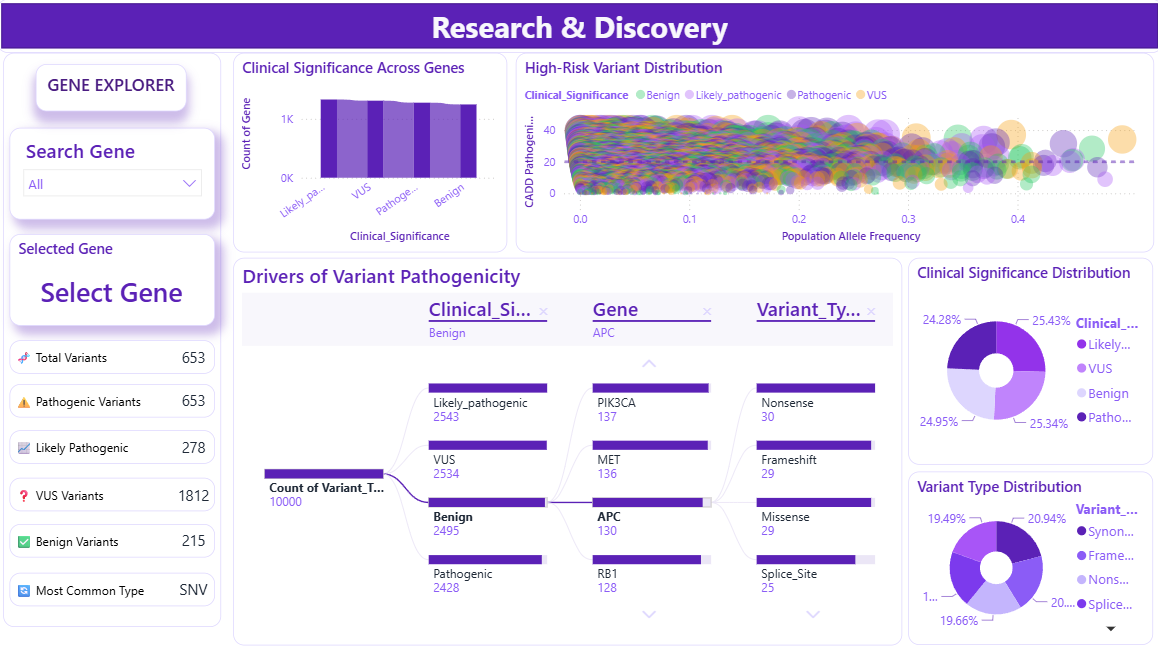

The page's visual inventory and layout, read from the dashboard file:
{"tool":"powerbi","page":{"name":"Research & Discovery Dashboard","canvas":[1280,720],"ordinal":5},"visuals":[{"type":"shape","box":[0,0,1279.7,59.4],"z":0},{"type":"group","id":"g1","title":"Group 1","box":[7.2,59.1,240,630],"z":1000,"group":"g2"},{"type":"shape","box":[7.2,59.1,239.6,630.2],"z":1000,"group":"g1"},{"type":"slicer","title":"Search Gene","fields":{"Values":["cancer_variant_prioritization_dataset.Gene"]},"box":[14.2,141.7,225.6,101],"z":2000,"group":"g1"},{"type":"textbox","box":[194,637.3,44.4,22.9],"z":2000,"group":"g2"},{"type":"group","id":"g2","title":"Group 2","box":[7.2,59.1,240.1,629.8],"z":3000},{"type":"textbox","box":[43.4,71.3,165.7,52],"z":3000,"group":"g1"},{"type":"textbox","box":[194,583.8,44.4,22.9],"z":3000,"group":"g2"},{"type":"scatterChart","title":"High-Risk Variant Distribution","fields":{"Series":["cancer_variant_prioritization_dataset.Clinical_Significance"],"Size":["Sum(cancer_variant_prioritization_dataset.CADD_Score)"],"X":["cancer_variant_prioritization_dataset.Population_AF"],"Y":["cancer_variant_prioritization_dataset.CADD_Score"]},"box":[569.4,59.1,700.9,219.6],"z":4000},{"type":"textbox","box":[194,533.4,44.4,22.9],"z":4000,"group":"g2"},{"type":"ribbonChart","title":"Clinical Significance Across Genes","fields":{"Category":["cancer_variant_prioritization_dataset.Clinical_Significance"],"Y":["CountNonNull(cancer_variant_prioritization_dataset.Gene)"]},"box":[259.4,59.1,300.4,219.6],"z":5000},{"type":"cardVisual","title":"Selected Gene","fields":{"Data":["cancer_variant_prioritization_dataset.Selected Gene"]},"box":[14.2,257.9,225.6,101],"z":5000,"group":"g1"},{"type":"textbox","box":[194,479.9,44.4,22.9],"z":5000,"group":"g2"},{"type":"decompositionTreeVisual","title":"Drivers of Variant Pathogenicity","fields":{"Analyze":["cancer_variant_prioritization_dataset.Count of Variant_Type"],"ExplainBy":["cancer_variant_prioritization_dataset.Clinical_Significance","cancer_variant_prioritization_dataset.Gene","cancer_variant_prioritization_dataset.Variant_Type"]},"box":[259.4,283.5,734.7,425.9],"z":6000},{"type":"textbox","box":[194,429.4,44.4,22.9],"z":6000,"group":"g2"},{"type":"shape","box":[14.2,374.2,225.6,36.7],"z":7000,"group":"g1"},{"type":"textbox","box":[194,382,44.4,22.9],"z":7000,"group":"g2"},{"type":"donutChart","title":"Variant Type Distribution","fields":{"Category":["cancer_variant_prioritization_dataset.Variant_Type"],"Y":["cancer_variant_prioritization_dataset.Count of Variant_Type"]},"box":[1000.1,518.8,269,190.6],"z":7000},{"type":"donutChart","title":"Clinical Significance Distribution","fields":{"Category":["cancer_variant_prioritization_dataset.Clinical_Significance"],"Y":["cancer_variant_prioritization_dataset.Count of Variant_Type"]},"box":[1000.1,283.5,269,226.8],"z":8001},{"type":"shape","box":[14.2,423.1,225.6,36.7],"z":9000,"group":"g1"},{"type":"shape","box":[14.2,473.6,225.6,36.7],"z":11000,"group":"g1"},{"type":"shape","box":[14.2,525.6,225.6,36.7],"z":13000,"group":"g1"},{"type":"shape","box":[14.2,576.1,225.6,36.7],"z":15000,"group":"g1"},{"type":"shape","box":[14.2,629.6,225.6,36.7],"z":16000,"group":"g1"}]}

Visuals, with their boxes in screenshot pixels (x1, y1, x2, y2), scaled from the page's 1280x720 canvas onto the 1158x653 screenshot:
shape: {"x1": 0, "y1": 0, "x2": 1157, "y2": 54}
"Group 1" group: {"x1": 7, "y1": 54, "x2": 224, "y2": 625}
shape: {"x1": 7, "y1": 54, "x2": 223, "y2": 625}
"Search Gene" slicer: {"x1": 13, "y1": 129, "x2": 217, "y2": 220}
textbox: {"x1": 176, "y1": 578, "x2": 216, "y2": 599}
"Group 2" group: {"x1": 7, "y1": 54, "x2": 224, "y2": 625}
textbox: {"x1": 39, "y1": 65, "x2": 189, "y2": 112}
textbox: {"x1": 176, "y1": 529, "x2": 216, "y2": 550}
"High-Risk Variant Distribution" scatterChart: {"x1": 515, "y1": 54, "x2": 1149, "y2": 253}
textbox: {"x1": 176, "y1": 484, "x2": 216, "y2": 505}
"Clinical Significance Across Genes" ribbonChart: {"x1": 235, "y1": 54, "x2": 506, "y2": 253}
"Selected Gene" cardVisual: {"x1": 13, "y1": 234, "x2": 217, "y2": 326}
textbox: {"x1": 176, "y1": 435, "x2": 216, "y2": 456}
"Drivers of Variant Pathogenicity" decompositionTreeVisual: {"x1": 235, "y1": 257, "x2": 899, "y2": 643}
textbox: {"x1": 176, "y1": 389, "x2": 216, "y2": 410}
shape: {"x1": 13, "y1": 339, "x2": 217, "y2": 373}
textbox: {"x1": 176, "y1": 346, "x2": 216, "y2": 367}
"Variant Type Distribution" donutChart: {"x1": 905, "y1": 471, "x2": 1148, "y2": 643}
"Clinical Significance Distribution" donutChart: {"x1": 905, "y1": 257, "x2": 1148, "y2": 463}
shape: {"x1": 13, "y1": 384, "x2": 217, "y2": 417}
shape: {"x1": 13, "y1": 430, "x2": 217, "y2": 463}
shape: {"x1": 13, "y1": 477, "x2": 217, "y2": 510}
shape: {"x1": 13, "y1": 522, "x2": 217, "y2": 556}
shape: {"x1": 13, "y1": 571, "x2": 217, "y2": 604}
